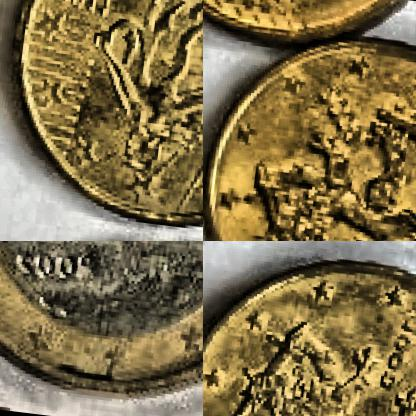coin: (0, 0, 202, 240), (203, 17, 415, 240), (203, 241, 415, 415), (0, 241, 202, 415)
